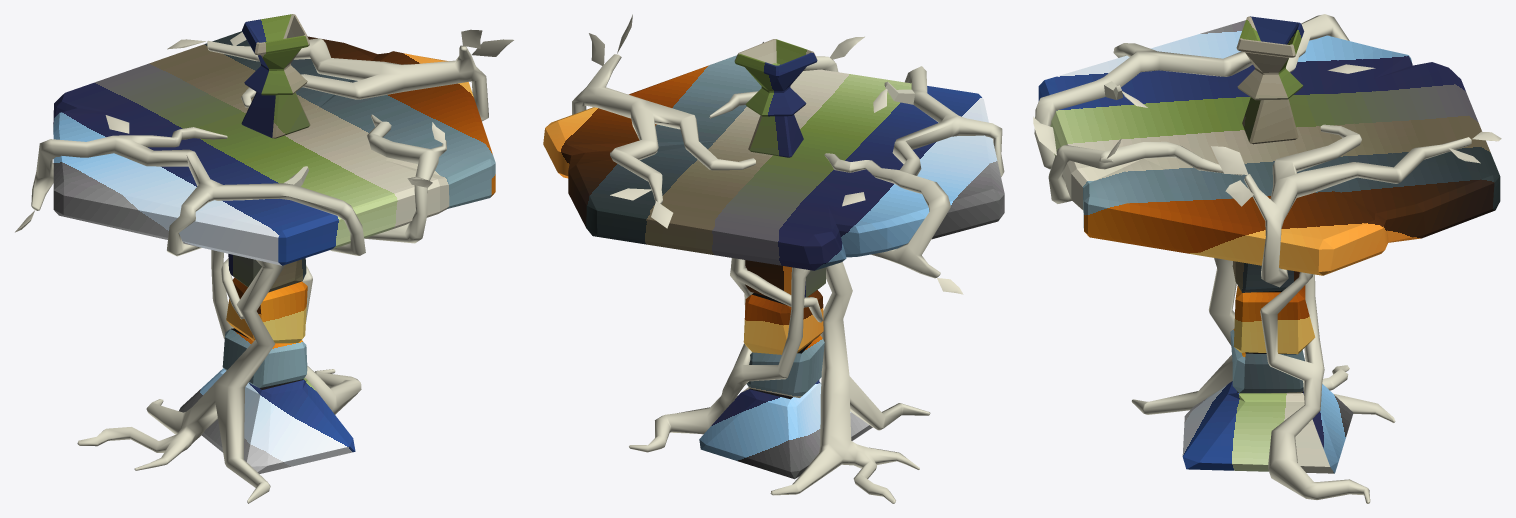
Rendered from Prop_MischiefTable.glb.
3 renders of one model, left to right at view 1: azimuth 30°, elevation 25°; view 2: azimuth 150°, elevation 25°; view 3: azimuth 270°, elevation 25°, orthographic. The views are drawn at different scales.
Visible parts, largest first — view 1: Prop_MischiefTable; view 2: Prop_MischiefTable; view 3: Prop_MischiefTable.
Boxes of the visible parts, box(x1,y1,x2,y2) form: Prop_MischiefTable: box(15, 14, 513, 503); Prop_MischiefTable: box(543, 14, 1004, 503); Prop_MischiefTable: box(1033, 14, 1501, 503).
Size of the model in its own units: 12 by 10.49 by 10.52.
1 material, 1 textured.
